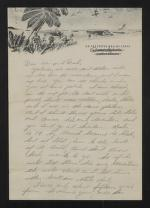page: (10, 8, 141, 199)
